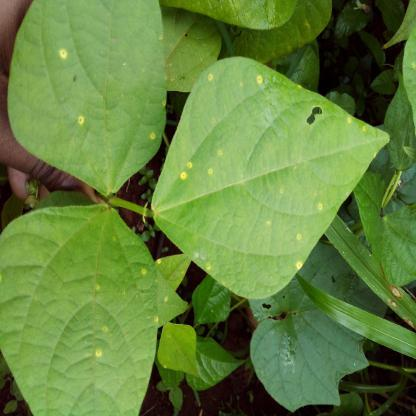Beans_Rust: (146, 58, 388, 298), (0, 204, 161, 416), (7, 0, 165, 189)
